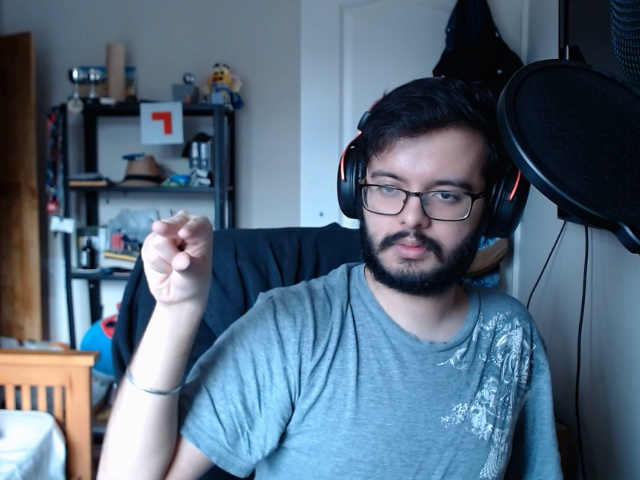No: (138, 193, 224, 324)
